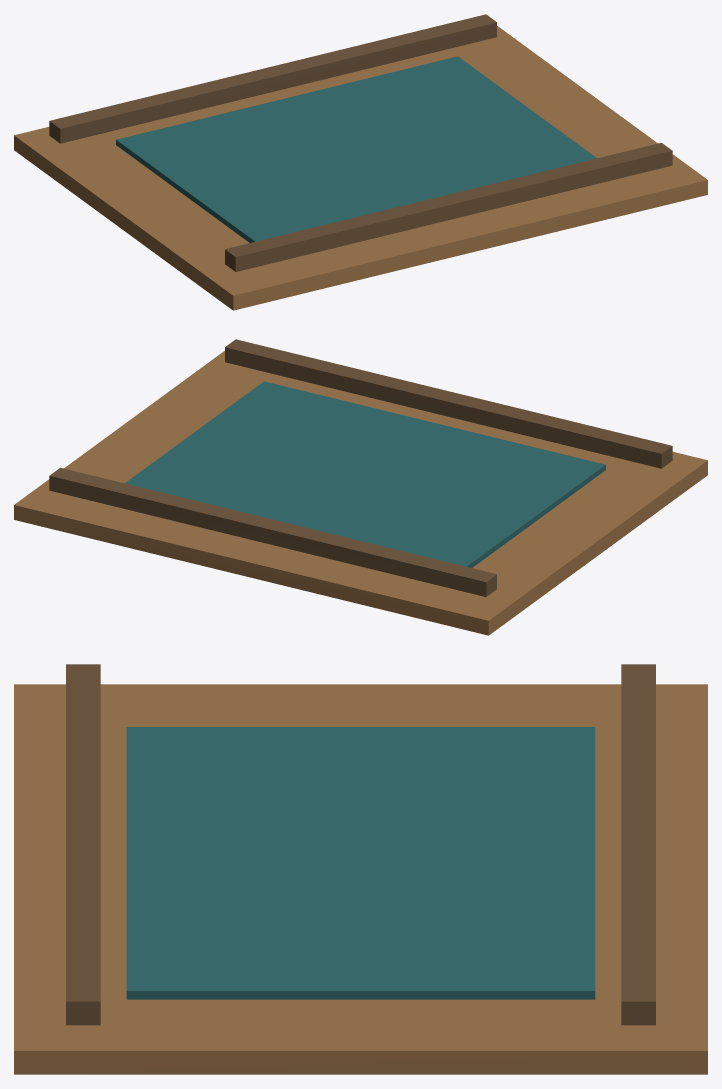
File: Pond.glb
3 views of the same model, one above another, from view 1: azimuth 30°, elevation 25°; view 2: azimuth 150°, elevation 25°; view 3: azimuth 270°, elevation 25° (orthographic). The views are drawn at different scales.
Parts seen in each view (by area): view 1: pond-static-pond-teal, pond-static-pond-earth, pond-static-pond-timber; view 2: pond-static-pond-teal, pond-static-pond-earth, pond-static-pond-timber; view 3: pond-static-pond-teal, pond-static-pond-earth, pond-static-pond-timber.
Part boxes in pixels (x1,y1,x2,y2): pond-static-pond-teal: (116, 56, 596, 242); pond-static-pond-earth: (14, 26, 707, 310); pond-static-pond-timber: (49, 14, 672, 271); pond-static-pond-teal: (125, 381, 605, 567); pond-static-pond-earth: (14, 351, 707, 635); pond-static-pond-timber: (49, 339, 672, 596); pond-static-pond-teal: (126, 727, 595, 999); pond-static-pond-earth: (14, 684, 707, 1074); pond-static-pond-timber: (66, 664, 655, 1025).
Bounding box in the file's own units: 5 × 0.37 × 4.
